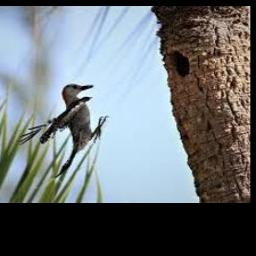Woodpecker: (17, 85, 108, 178)
